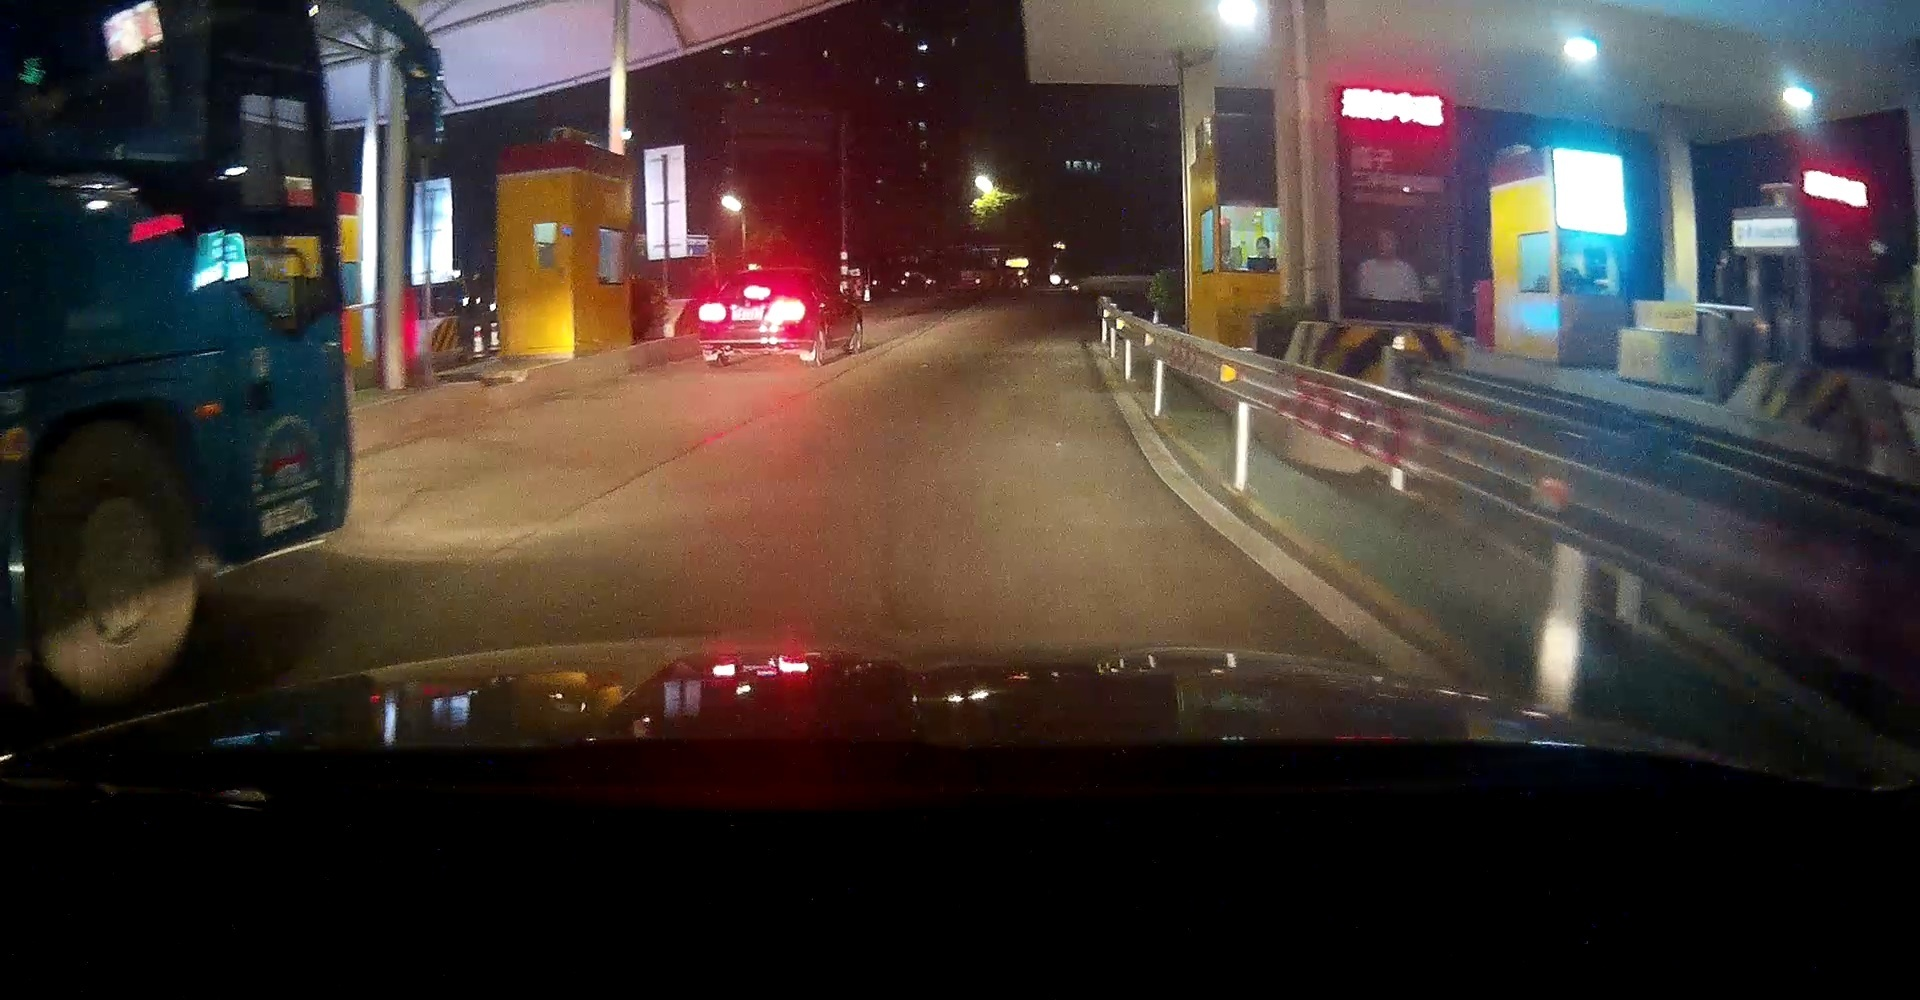L_light: (697, 303, 726, 322)
R_light: (770, 299, 805, 322)
T_light: (744, 286, 770, 299)
night-brake: (697, 266, 808, 367)
